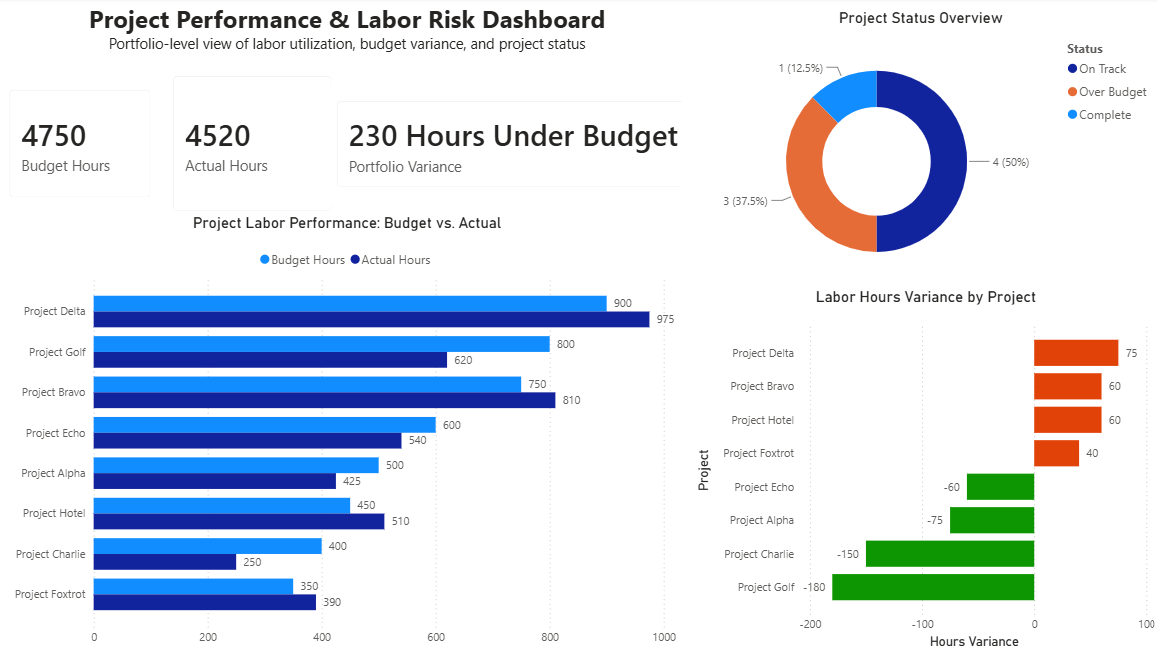

The page's visual inventory and layout, read from the dashboard file:
{"tool":"powerbi","page":{"name":"Page 1","canvas":[1280,720],"ordinal":0},"visuals":[{"type":"cardVisual","fields":{"Data":["Sum(sample-data.Budget_Hours)"]},"box":[0,85.1,189.4,152.3],"z":0},{"type":"cardVisual","fields":{"Data":["Sum(sample-data.Actual_Hours)"]},"box":[179.8,70,208.6,182.5],"z":1000},{"type":"cardVisual","fields":{"Data":["sample-data.Variance Status"]},"box":[359.5,97.4,435,129],"z":2000},{"type":"clusteredBarChart","title":"Project Labor Performance: Budget vs. Actual","fields":{"Category":["sample-data.Project_Name"],"Y":["Sum(sample-data.Budget_Hours)","Sum(sample-data.Actual_Hours)"]},"box":[9.6,237.4,756.1,483],"z":3000},{"type":"donutChart","title":"Project Status Overview","fields":{"Category":["sample-data.Status"],"Y":["CountNonNull(sample-data.Project_ID)"]},"box":[754.7,12.3,525.6,306],"z":4000},{"type":"clusteredBarChart","title":"Labor Hours Variance by Project","fields":{"Category":["sample-data.Project_Name"],"Y":["Sum(sample-data.Hours_Variance)"]},"box":[765.7,318.4,514.6,402.1],"z":5000},{"type":"textbox","box":[9.6,0,756.1,70],"z":5001}]}

Visuals, with their boxes in screenshot pixels (x1, y1, x2, y2), scaled from the page's 1280x720 canvas onto the 1157x652 screenshot:
cardVisual - Sum(sample-data.Budget_Hours): box(0, 77, 171, 215)
cardVisual - Sum(sample-data.Actual_Hours): box(163, 63, 351, 229)
cardVisual - sample-data.Variance Status: box(325, 88, 718, 205)
"Project Labor Performance: Budget vs. Actual" clusteredBarChart: box(9, 215, 692, 651)
"Project Status Overview" donutChart: box(682, 11, 1156, 288)
"Labor Hours Variance by Project" clusteredBarChart: box(692, 288, 1156, 651)
textbox: box(9, 0, 692, 63)
